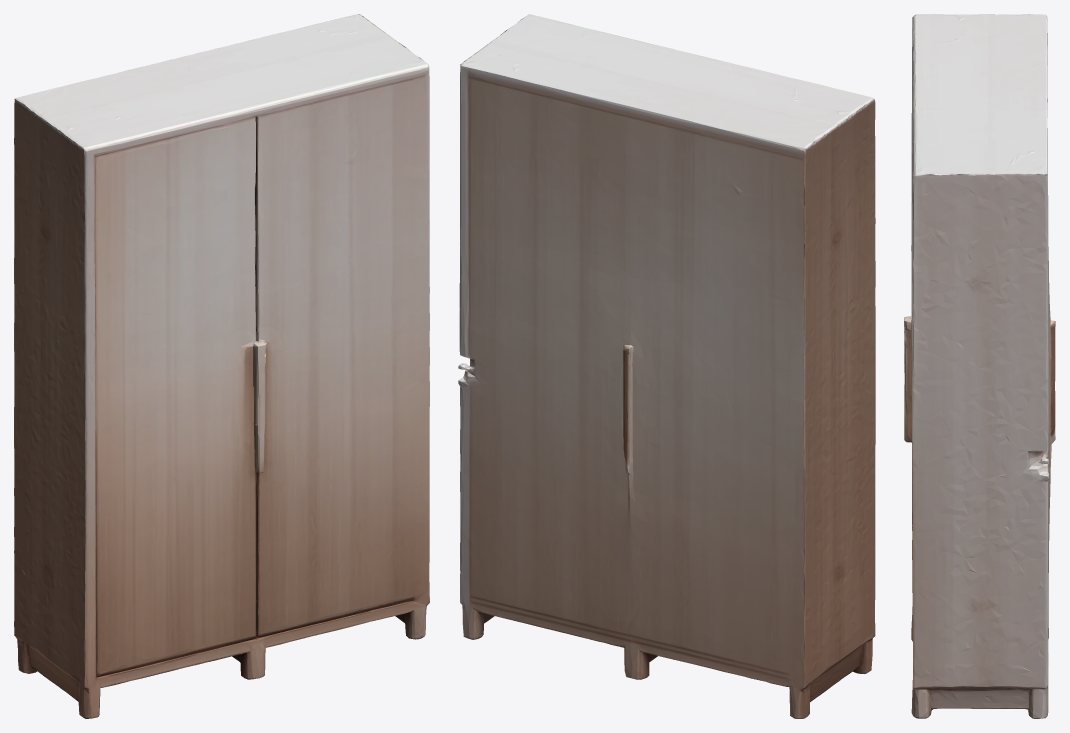
3 views of the same model, side by side, from view 1: azimuth 30°, elevation 25°; view 2: azimuth 150°, elevation 25°; view 3: azimuth 270°, elevation 25° (orthographic). The views are drawn at different scales.
Visible parts, largest first — view 1: geometry_0; view 2: geometry_0; view 3: geometry_0.
Boxes of the visible parts, bbox=[...] form: geometry_0: bbox=[14, 14, 429, 718]; geometry_0: bbox=[458, 14, 875, 718]; geometry_0: bbox=[904, 14, 1055, 718].
Size of the model in its own units: 0.635 by 1 by 0.2526.
Materials: 1 (1 with a texture image).
